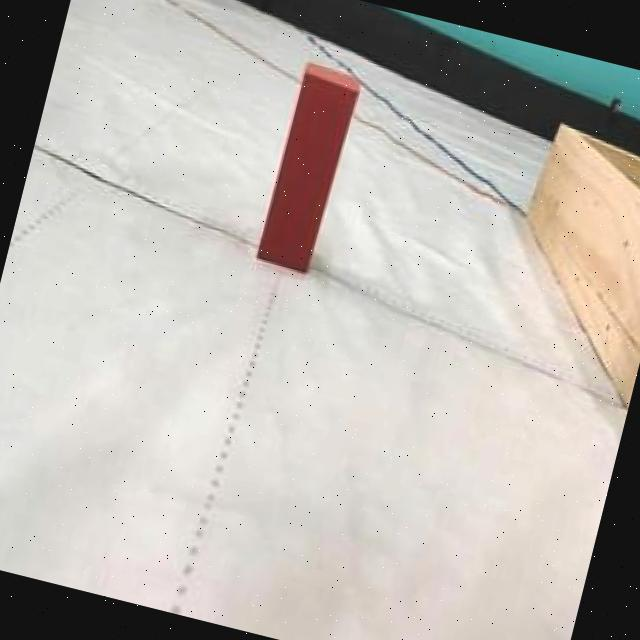redbox: (250, 56, 366, 278)
